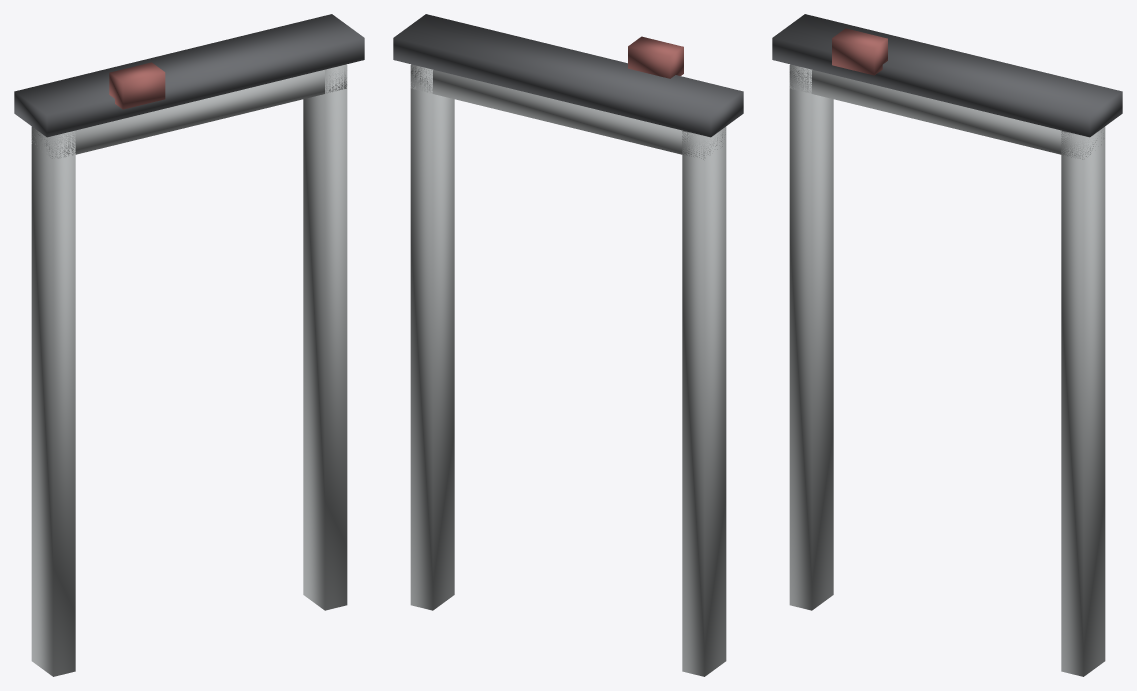
Rendered from doorway_fire_rated_w106_h210_d16.glb.
The picture shows the model from 3 angles, left to right: view 1: azimuth 30°, elevation 25°; view 2: azimuth 150°, elevation 25°; view 3: azimuth 330°, elevation 25°; orthographic projection.
Visible parts, largest first — view 1: world; view 2: world; view 3: world.
Part boxes in pixels (<box>): world: <box>14,14,364,676</box>; world: <box>393,14,743,676</box>; world: <box>772,14,1122,676</box>.
Bounding box in the file's own units: 1.35 × 2.4 × 0.3.
